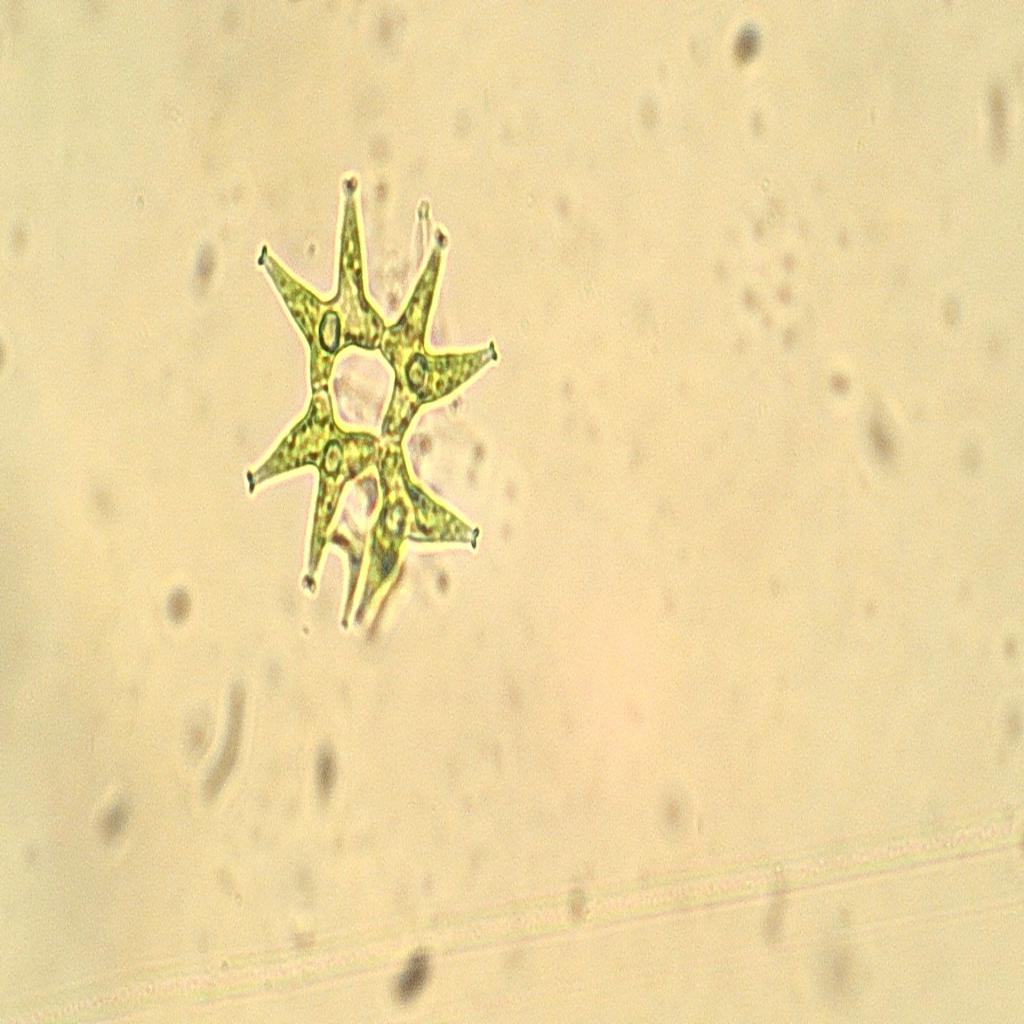Pediastrum_CT: (223, 167, 510, 642)
